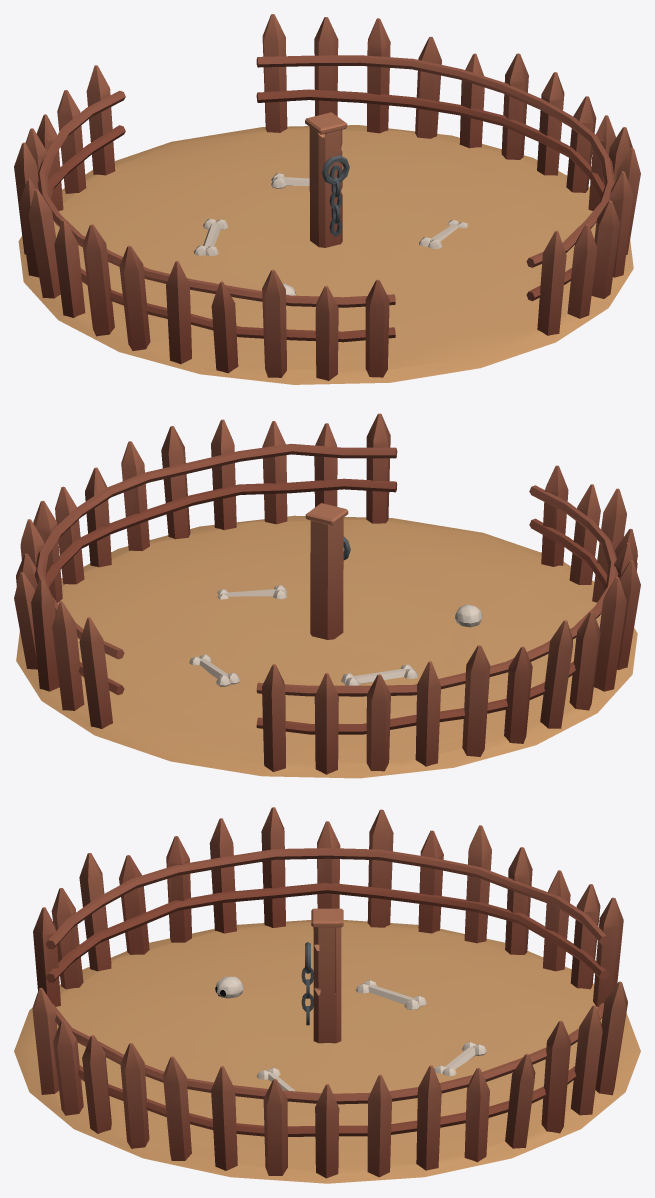
Rendered from fighting_ring.glb.
The picture shows the model from 3 angles, top to bottom: view 1: azimuth 30°, elevation 25°; view 2: azimuth 150°, elevation 25°; view 3: azimuth 270°, elevation 25°; orthographic projection.
Visible parts, largest first — view 1: fighting_ring; view 2: fighting_ring; view 3: fighting_ring.
Part boxes in pixels (x1,y1,x2,y2): fighting_ring: (14, 14, 640, 384); fighting_ring: (14, 413, 640, 778); fighting_ring: (14, 807, 640, 1183).
Size of the model in its own units: 6.45 by 1.54 by 6.4.
1 material, 1 textured.
